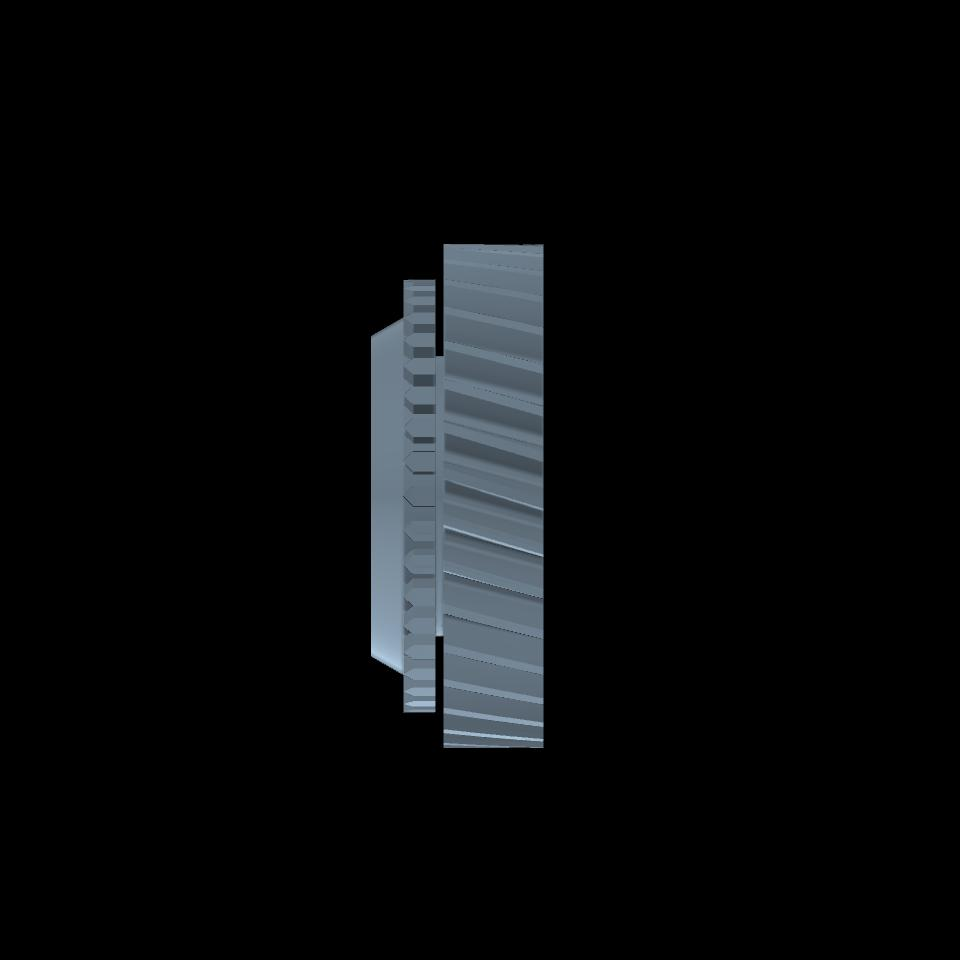Helical: (443, 244, 542, 747)
Straight: (414, 279, 436, 711)
